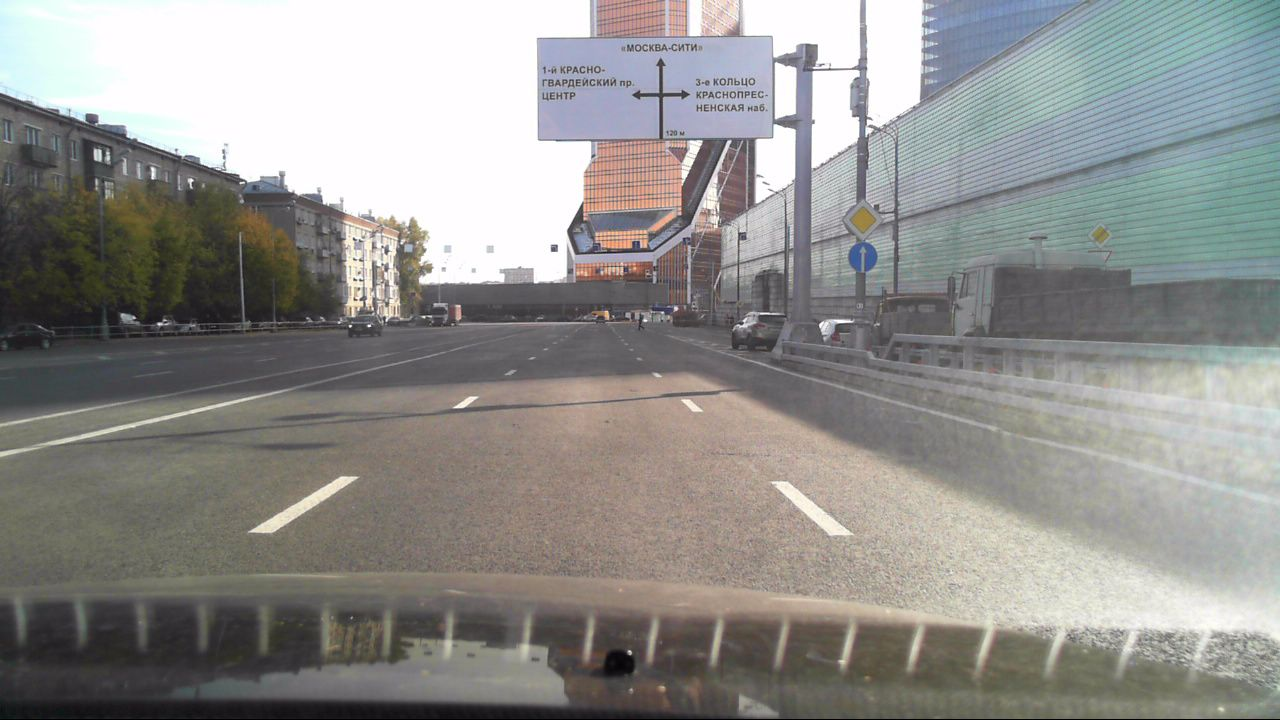main road: (1087, 221, 1111, 244)
